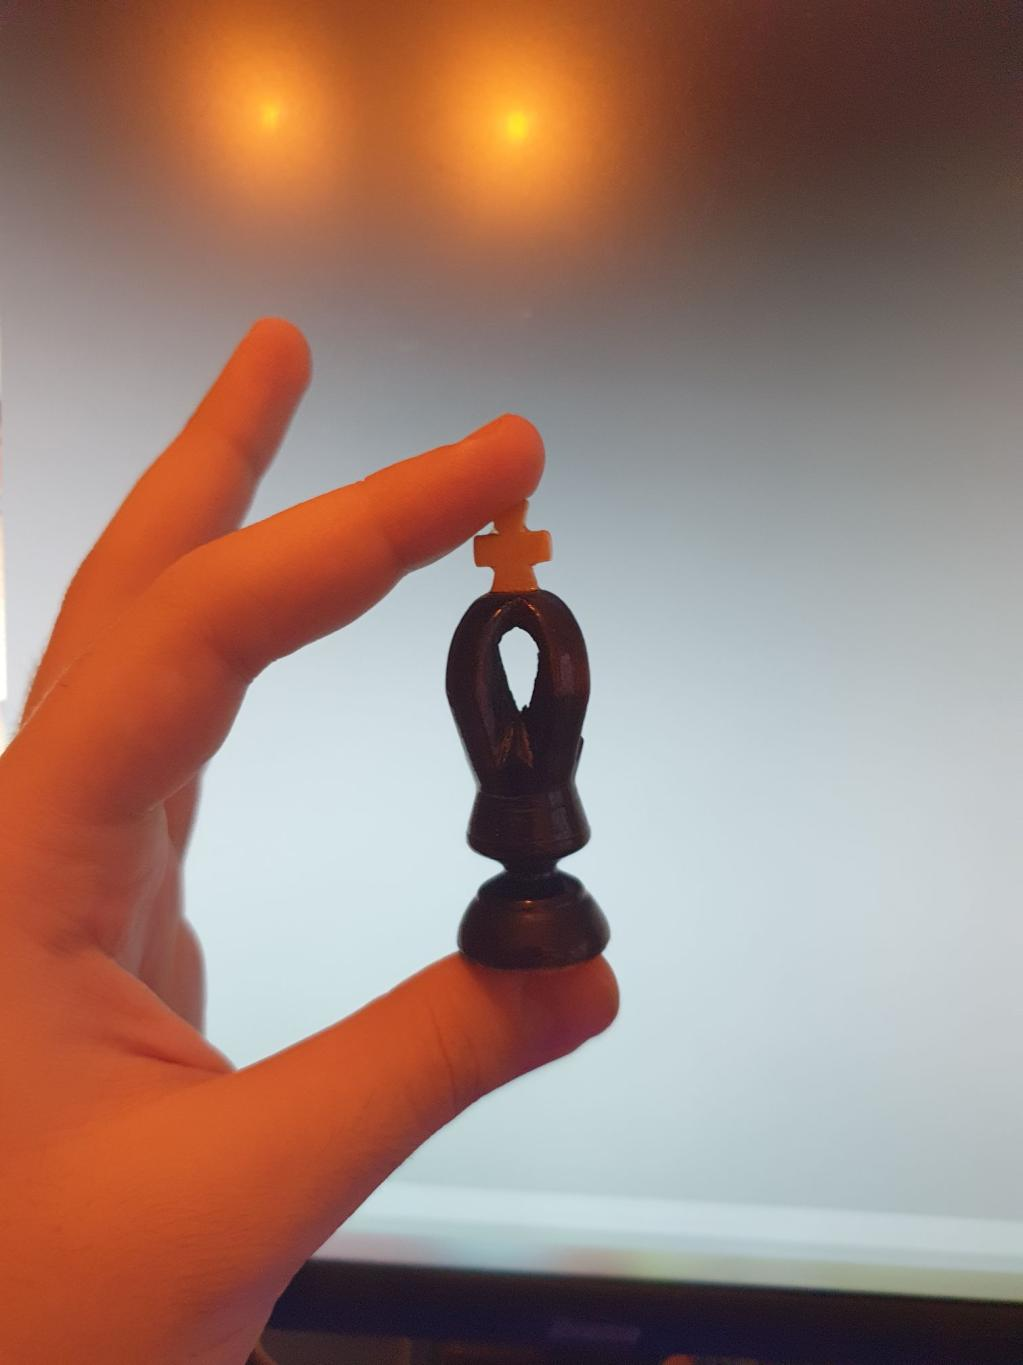bking: (443, 495, 614, 969)
